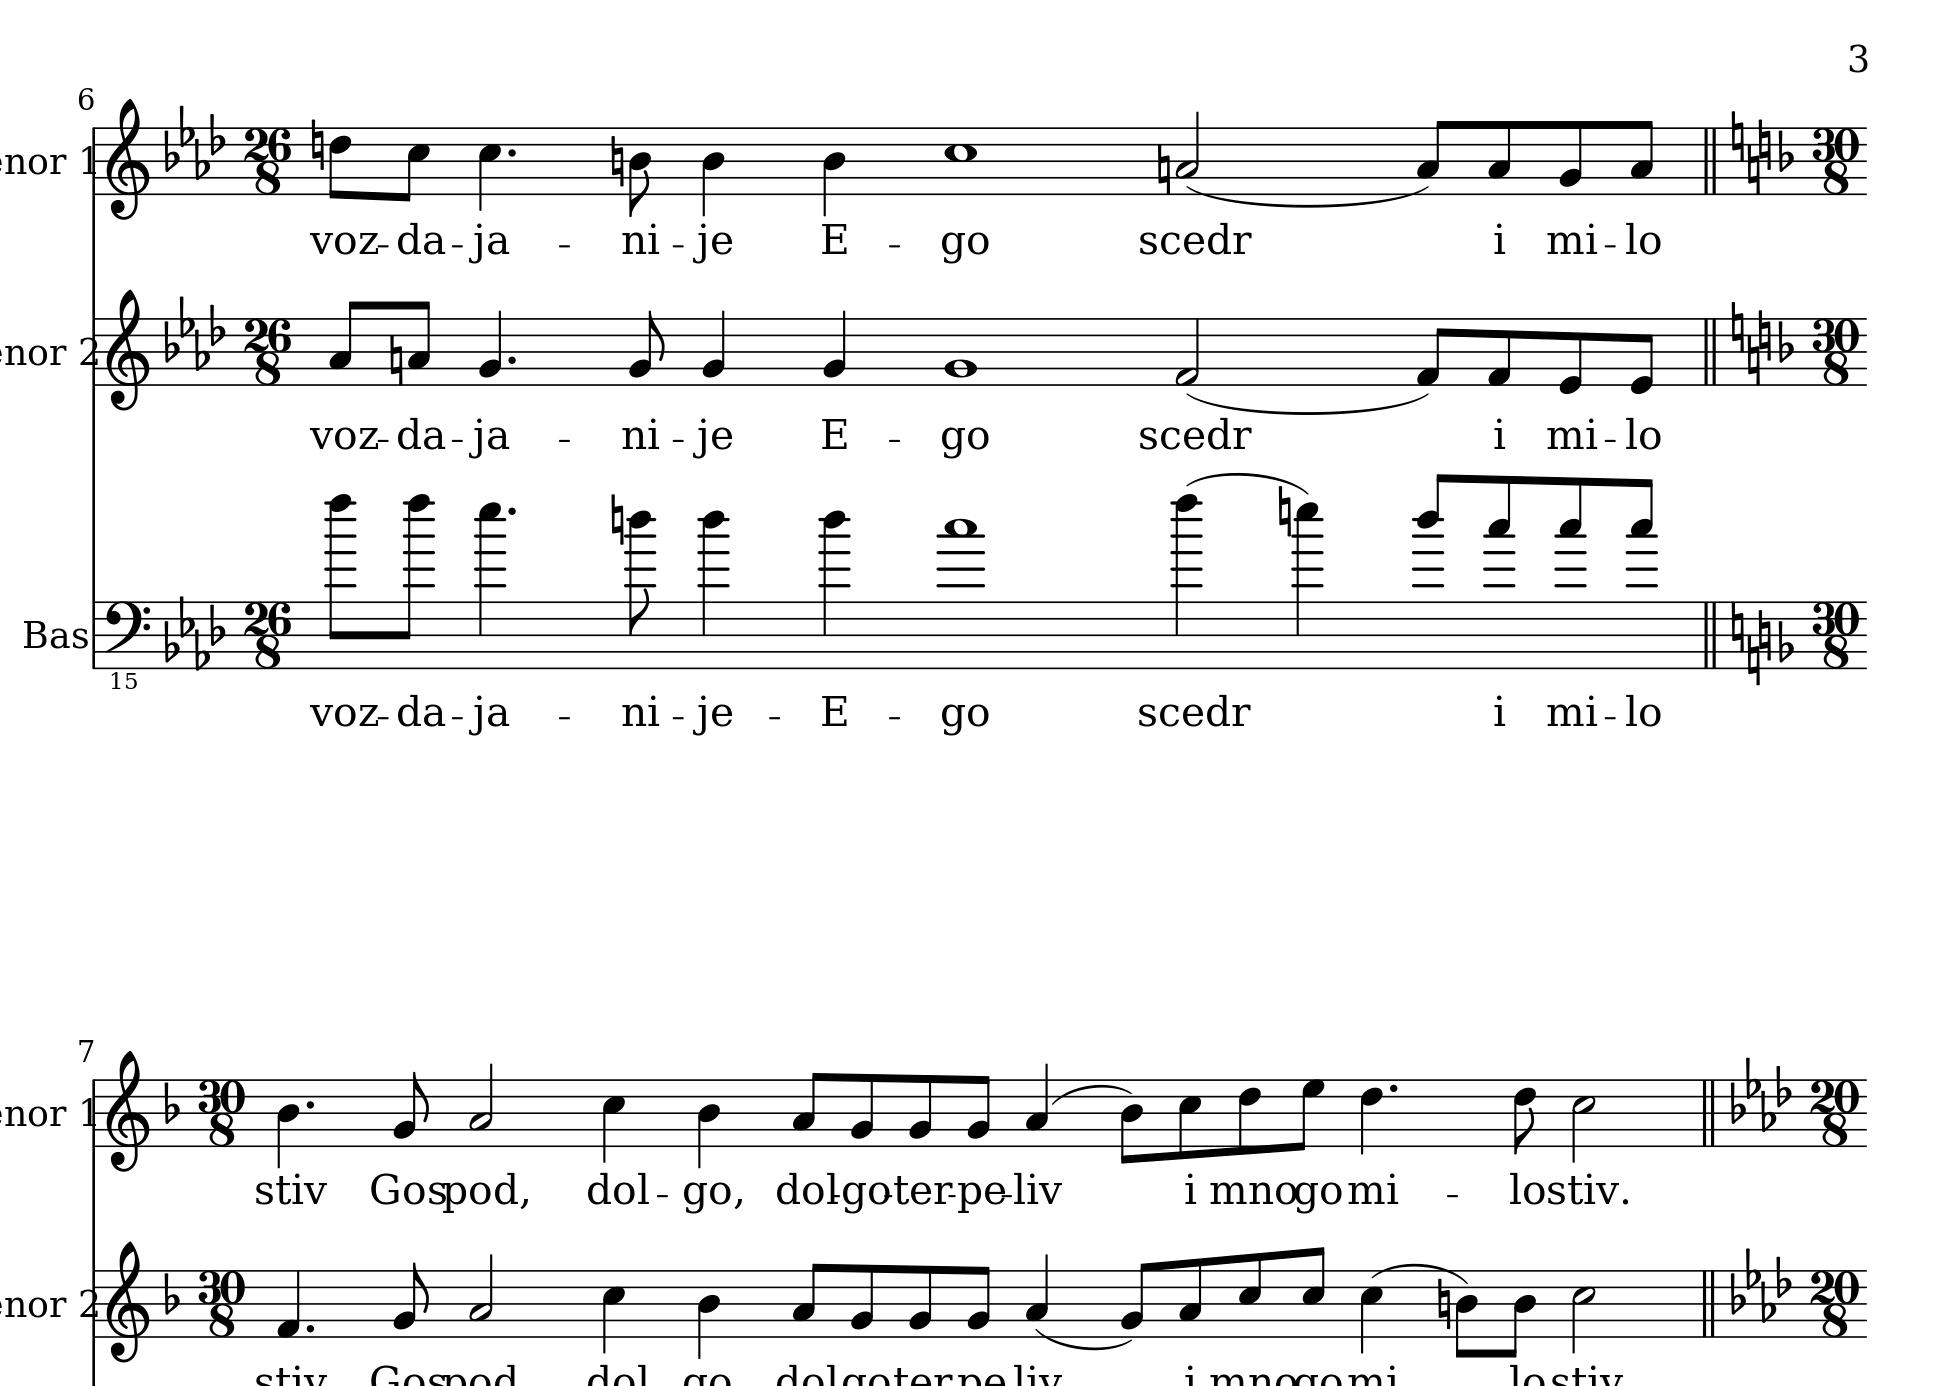0: (1833, 1266, 1861, 1303), (1833, 126, 1863, 160), (1834, 598, 1863, 634), (1833, 316, 1861, 351), (1834, 1075, 1861, 1111), (220, 1267, 246, 1303), (220, 1077, 246, 1111)
1_17: (937, 517, 982, 670)
1_2: (943, 315, 979, 388)
1_5: (943, 124, 978, 196)
2: (241, 124, 268, 162), (241, 315, 268, 352), (241, 598, 268, 634), (1809, 1077, 1836, 1113), (1809, 1267, 1836, 1303)
2_1: (1174, 316, 1203, 388)
2_3: (1174, 108, 1203, 196), (466, 1060, 495, 1147), (466, 1252, 495, 1336)
2_5: (1570, 1269, 1599, 1354), (1570, 1077, 1597, 1162)
3: (1810, 126, 1836, 160), (1810, 600, 1836, 634), (196, 1267, 220, 1303), (1810, 316, 1836, 349), (1846, 40, 1870, 73), (196, 1078, 220, 1111)
4_1: (274, 1267, 301, 1339)
4_18: (697, 508, 730, 670), (819, 510, 850, 672)
4_19: (474, 501, 507, 669), (1293, 501, 1323, 670)
4_2: (700, 307, 727, 387), (820, 307, 847, 387), (477, 307, 502, 387)
4_20: (1170, 492, 1203, 670)
4_3: (1024, 1062, 1050, 1147), (1024, 1252, 1050, 1338)
4_4: (820, 124, 846, 217), (696, 1077, 721, 1168), (696, 1267, 721, 1357), (700, 124, 724, 216), (274, 1078, 298, 1168)
4_5: (475, 124, 502, 213), (1359, 1267, 1386, 1354), (600, 1077, 625, 1165), (600, 1267, 625, 1354)
4_6: (1359, 1077, 1383, 1155)
6: (268, 598, 294, 634), (268, 124, 292, 160), (268, 316, 292, 351), (76, 84, 96, 111)
7: (76, 1035, 96, 1063)
8: (252, 159, 283, 196), (205, 1111, 237, 1146), (1821, 160, 1852, 193), (1821, 351, 1851, 385), (1821, 1111, 1849, 1147), (207, 1302, 235, 1338), (253, 351, 282, 385), (253, 634, 282, 669), (1822, 634, 1851, 667), (1821, 1303, 1849, 1336)
8_0: (1557, 316, 1584, 396), (1629, 316, 1656, 396)
8_1: (1416, 315, 1450, 388), (1485, 316, 1513, 388)
8_17: (1483, 471, 1516, 670), (1626, 474, 1659, 673), (1554, 472, 1587, 670)
8_18: (1410, 469, 1446, 673), (625, 508, 657, 670)
8_2: (627, 307, 664, 385), (391, 1069, 429, 1147), (391, 1261, 429, 1338), (1119, 1260, 1152, 1339), (1557, 118, 1584, 196), (847, 1071, 874, 1147), (847, 1261, 874, 1338), (964, 1072, 991, 1147), (964, 1264, 991, 1339), (907, 1263, 933, 1339), (907, 1072, 933, 1147)
8_20: (322, 493, 358, 669), (399, 493, 435, 669)
8_3: (328, 298, 361, 387), (790, 1260, 825, 1339), (1416, 118, 1450, 196), (790, 1069, 823, 1147), (406, 298, 432, 387), (1177, 1255, 1203, 1339), (1486, 118, 1513, 196), (1629, 118, 1656, 196)
8_4: (1501, 1269, 1537, 1359), (627, 124, 652, 217), (1119, 1077, 1144, 1165), (1455, 1267, 1479, 1360)
8_5: (396, 124, 430, 204), (1300, 1243, 1326, 1339), (1237, 1249, 1264, 1339), (1176, 1077, 1203, 1161)
8_6: (1236, 1075, 1263, 1158), (1512, 1075, 1537, 1156), (327, 124, 352, 201)
8_7: (1291, 1077, 1324, 1153)
A_F: (163, 100, 225, 181), (163, 292, 226, 370), (1731, 1245, 1794, 1321), (1731, 1054, 1792, 1132), (163, 595, 225, 669)
Bass: (21, 615, 90, 652)
Cclef: (198, 1269, 247, 1338), (198, 1078, 244, 1149)
Double_barline: (1698, 1267, 1719, 1336), (1698, 1078, 1719, 1146), (1701, 316, 1720, 385), (1701, 600, 1720, 669), (1701, 126, 1719, 195)
Fclef: (102, 598, 151, 670)
Flat: (160, 1078, 181, 1126), (162, 1269, 181, 1318), (1776, 619, 1794, 664), (1777, 127, 1794, 174), (1777, 318, 1794, 364)
Gclef: (103, 286, 151, 412), (103, 96, 150, 220), (103, 1048, 150, 1173), (103, 1239, 148, 1363)
Natural: (387, 333, 405, 388), (1275, 484, 1293, 540), (309, 115, 325, 172), (609, 492, 625, 547), (609, 133, 625, 187), (1155, 142, 1171, 195), (1758, 307, 1773, 364), (1758, 607, 1773, 664), (1758, 117, 1773, 172), (1437, 1276, 1452, 1332), (1731, 601, 1746, 655), (1731, 109, 1744, 165), (1731, 300, 1744, 355), (1746, 339, 1761, 388), (1746, 639, 1761, 687), (1746, 151, 1761, 196)
Single_barline: (85, 316, 103, 385), (87, 1269, 105, 1338), (88, 1077, 103, 1146), (87, 124, 100, 196), (88, 600, 100, 669)
Slur: (1188, 184, 1425, 210), (1188, 394, 1432, 418), (1186, 471, 1312, 492), (1035, 1327, 1132, 1350), (1371, 1261, 1467, 1282), (1051, 1083, 1131, 1104)
TimeSig: (243, 600, 292, 670), (244, 124, 292, 196), (244, 316, 292, 387), (1812, 598, 1860, 669), (1812, 1077, 1860, 1147), (1812, 1269, 1860, 1338), (1813, 126, 1860, 196), (1813, 316, 1860, 385)
dot: (505, 504, 520, 519), (504, 145, 517, 159), (504, 352, 517, 366), (1387, 1080, 1401, 1093), (303, 1096, 316, 1110), (304, 1321, 315, 1333)
